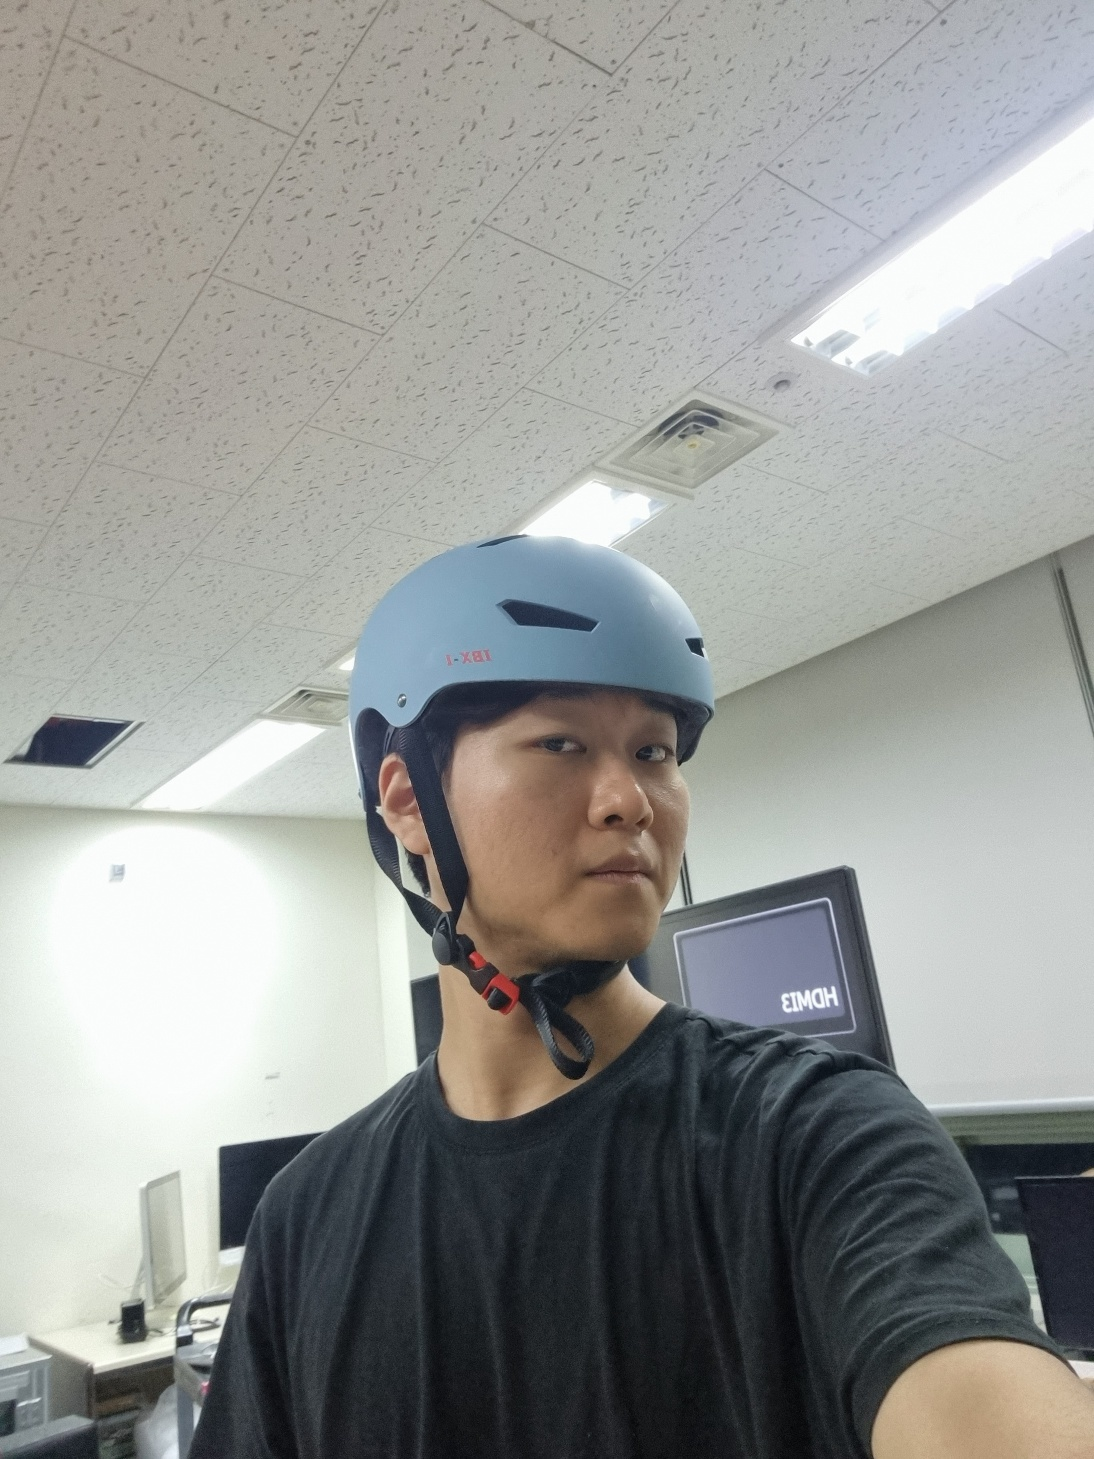Helmet: (316, 503, 747, 1021)
